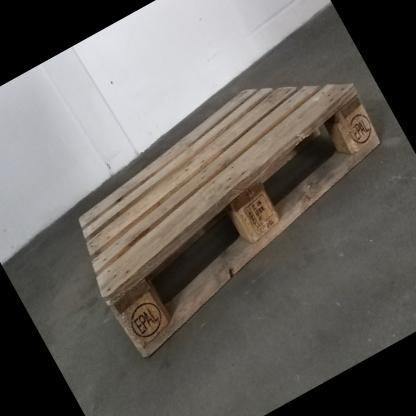BoxFace: (70, 77, 387, 368)
